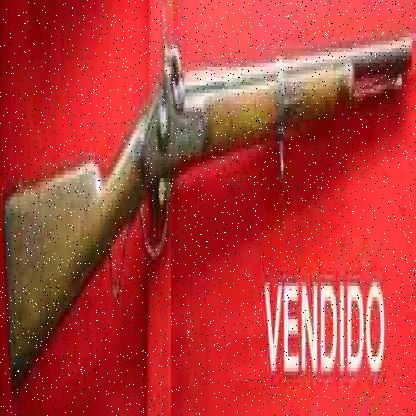rifle: (3, 8, 415, 398)
